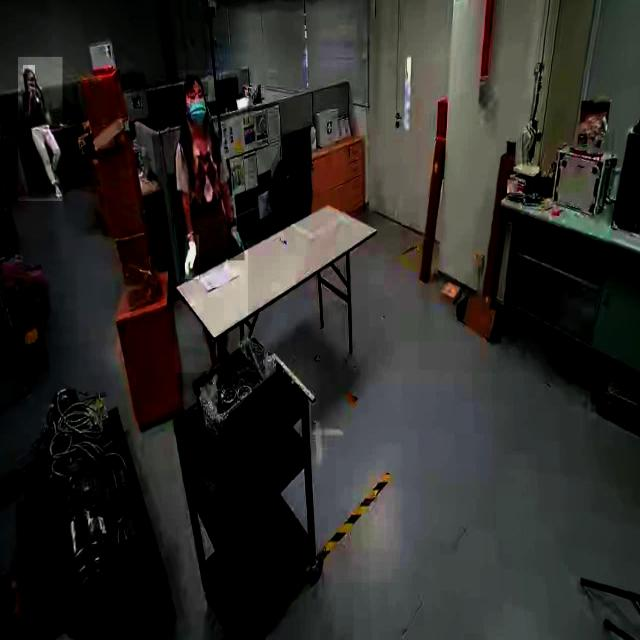face_mask: (190, 81, 208, 122)
hand_glove: (228, 218, 245, 261), (185, 235, 199, 280)
head_nohelmet: (184, 74, 204, 90), (23, 65, 35, 75)
person: (174, 70, 248, 374), (18, 57, 62, 202)
